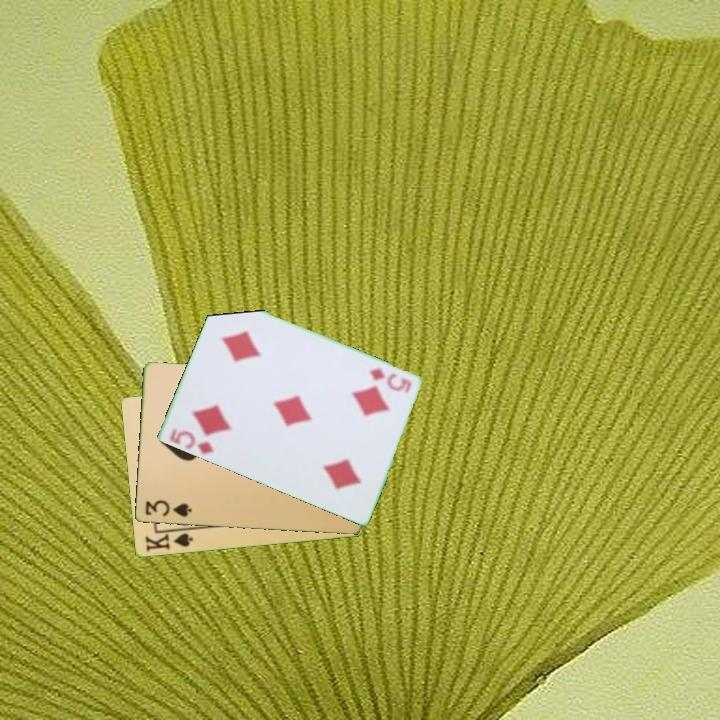3s: (141, 497, 194, 520)
5d: (166, 425, 216, 457), (365, 364, 414, 396)
Ks: (141, 526, 195, 555)
